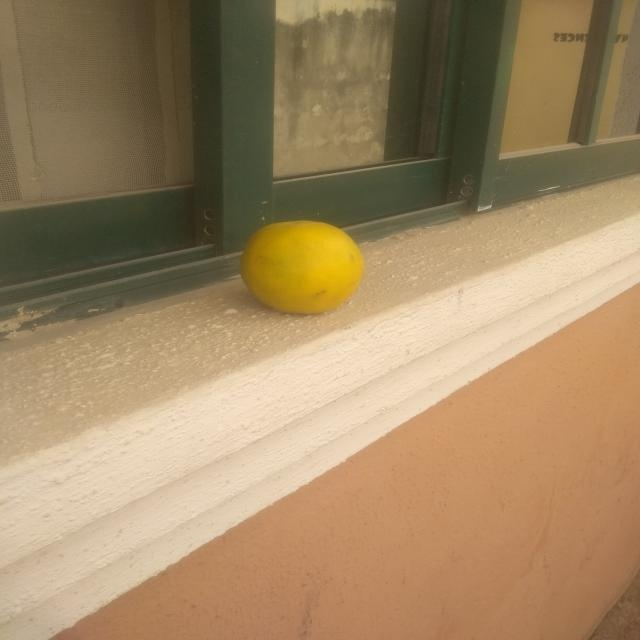agrume: (217, 206, 376, 318)
